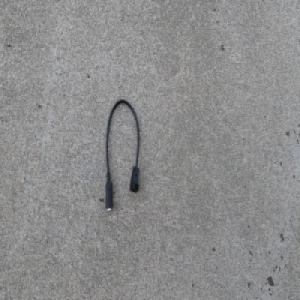Wire: (105, 97, 141, 214)
